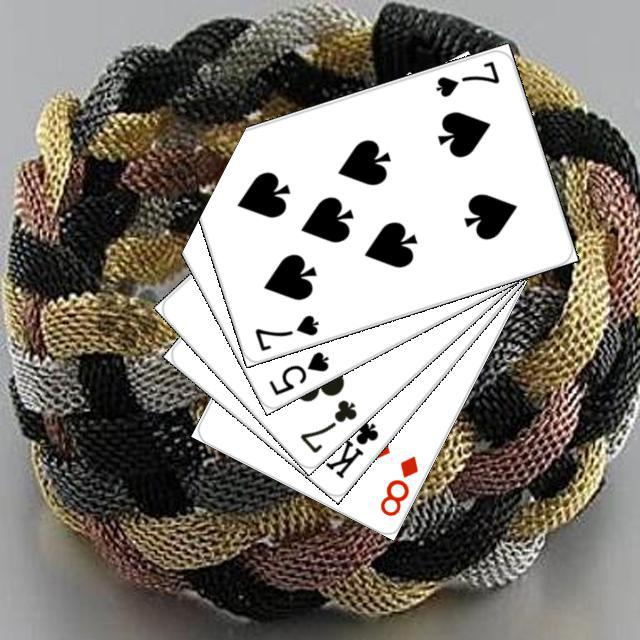5s: (263, 346, 331, 397)
7c: (295, 394, 359, 455)
7s: (250, 309, 321, 353), (430, 56, 501, 99)
8d: (374, 450, 420, 518)
Kc: (320, 403, 381, 481)
